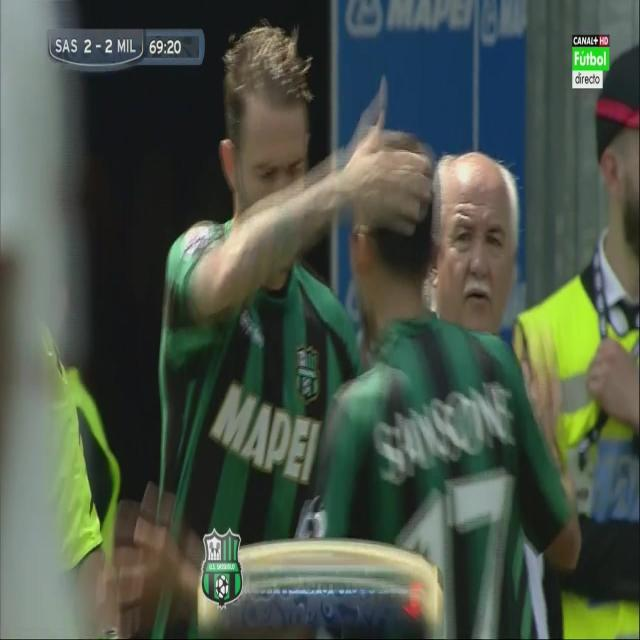Player: (316, 133, 586, 640), (150, 19, 362, 634)
